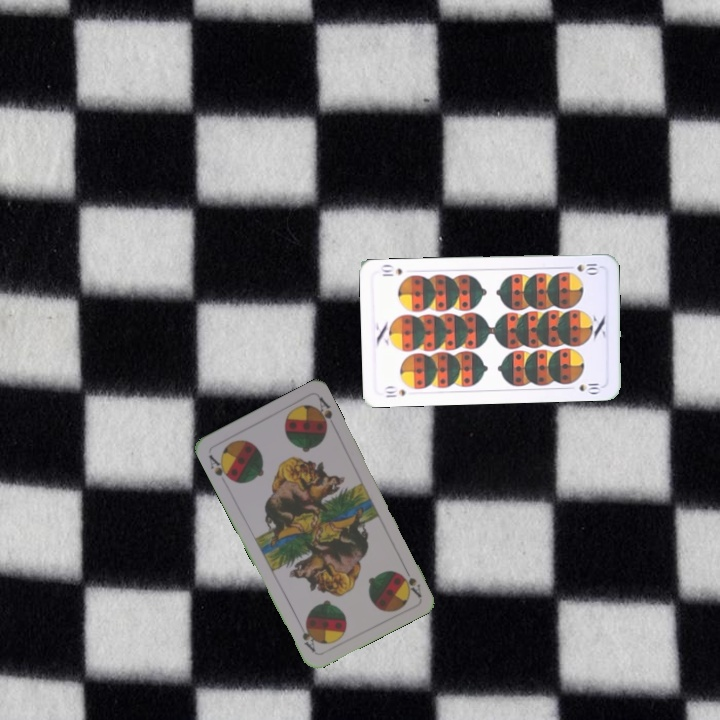S10: (562, 259, 603, 276), (380, 383, 408, 400)
SA: (204, 450, 235, 484), (397, 561, 424, 600)
